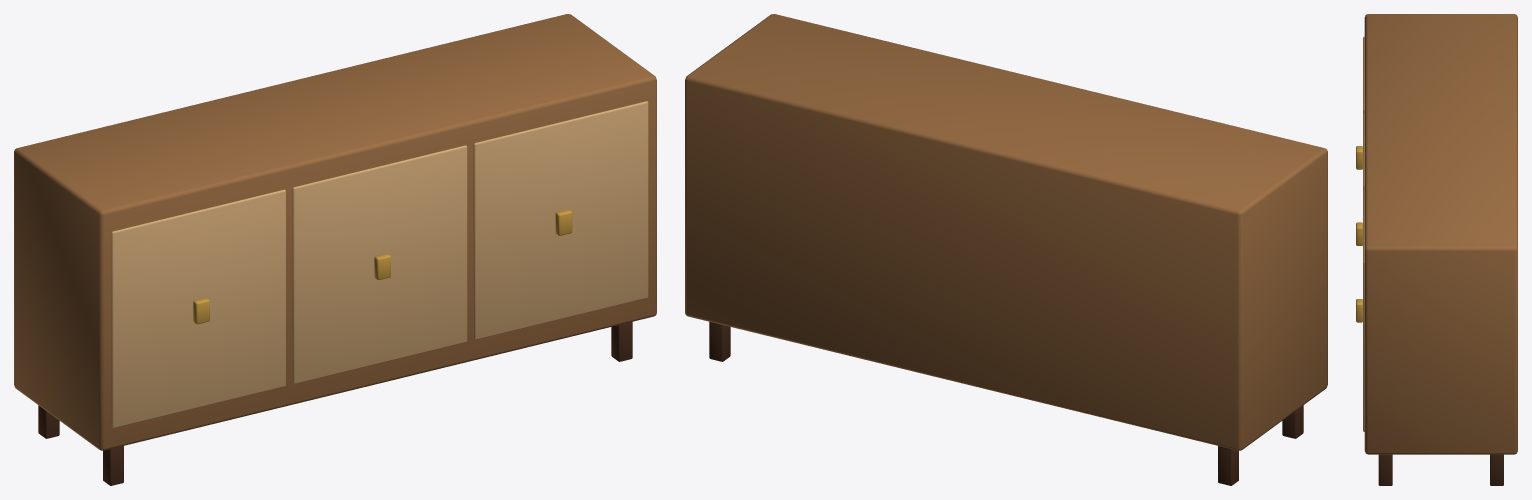
File: Sideboard_Low.fbx
The picture shows the model from 3 angles, left to right: view 1: azimuth 30°, elevation 25°; view 2: azimuth 150°, elevation 25°; view 3: azimuth 270°, elevation 25°; orthographic projection. The views are drawn at different scales.
Parts seen in each view (by area): view 1: Sideboard_Low; view 2: Sideboard_Low; view 3: Sideboard_Low.
Boxes of the visible parts, x1=… form: Sideboard_Low: x1=14, y1=14, x2=656, y2=485; Sideboard_Low: x1=685, y1=14, x2=1327, y2=485; Sideboard_Low: x1=1356, y1=14, x2=1517, y2=485.
Size of the model in its own units: 1.6 by 0.465 by 0.78.
